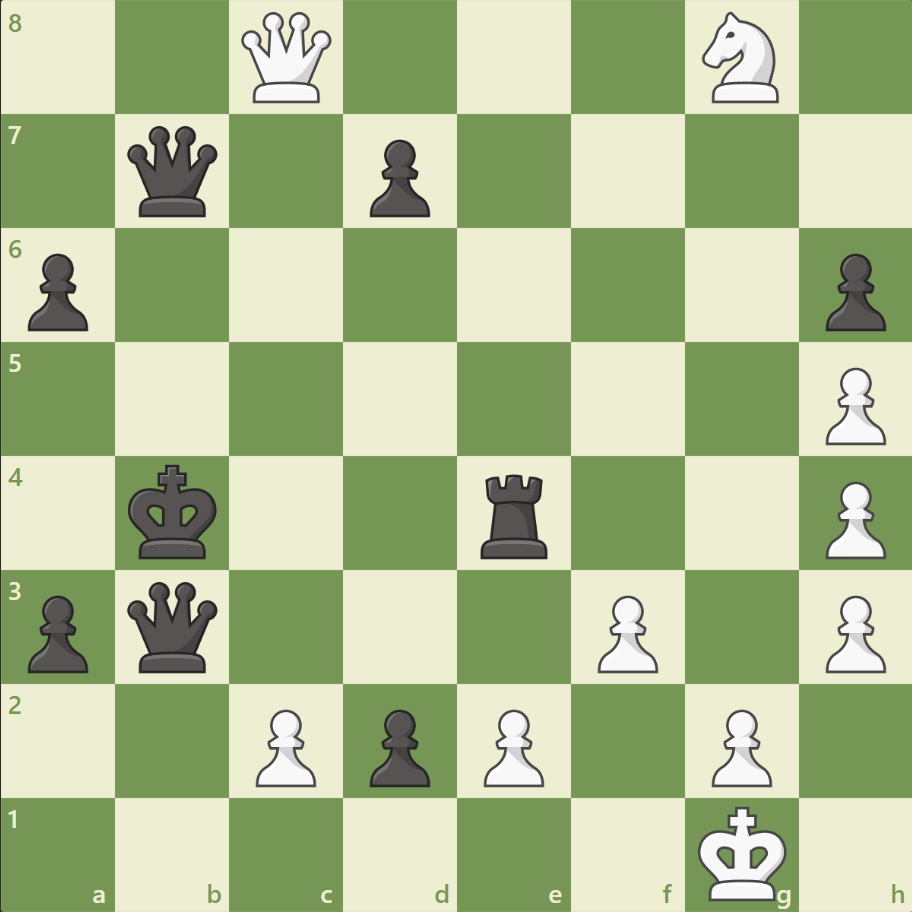K: (692, 798, 792, 906)
N: (692, 7, 789, 110)
P: (247, 700, 322, 791), (474, 700, 549, 791), (701, 700, 776, 791), (815, 359, 889, 450), (815, 473, 889, 564), (588, 586, 662, 677), (815, 586, 889, 677)
Q: (237, 9, 336, 108)
k: (124, 458, 224, 566)
p: (20, 246, 95, 337), (20, 586, 95, 677), (361, 132, 435, 223), (815, 246, 889, 337), (361, 700, 435, 791)
q: (124, 122, 223, 222), (124, 576, 223, 676)
r: (473, 466, 556, 563)
